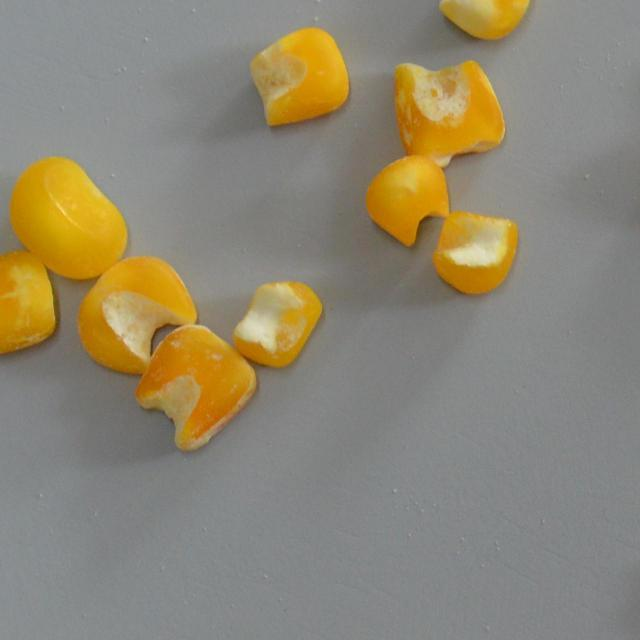no_canjicado: (74, 252, 198, 375), (6, 154, 126, 280), (250, 26, 347, 126), (364, 156, 450, 248), (232, 280, 323, 366), (430, 212, 519, 293), (0, 250, 56, 355), (439, 0, 536, 42)
pelicula: (136, 322, 257, 451), (392, 59, 505, 167)
